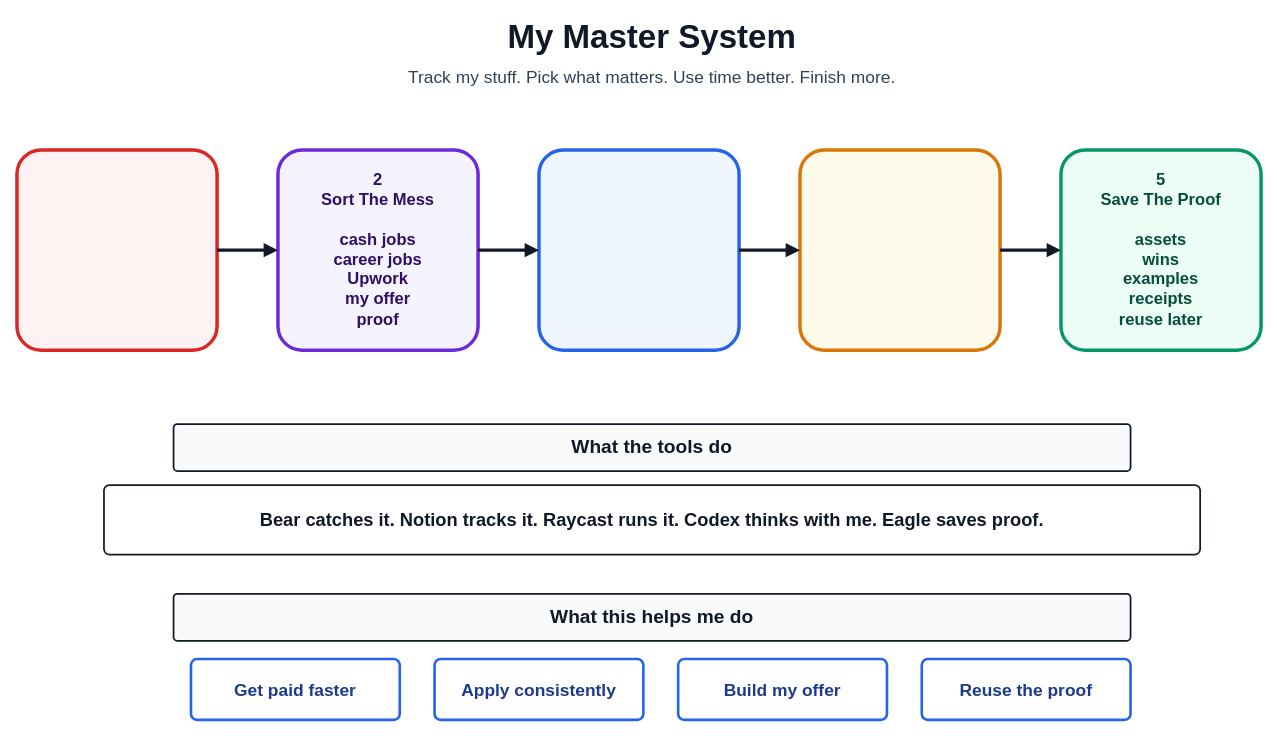
This 1277x736 diagram has some shape labels left out. The shapes that lost their labels are listed below. From the top down, each one's box as (x1, y1, x2, y2) in pixels, then its label:
(15, 148, 218, 351): 1 Catch Everything ideas jobs links screenshots random thoughts
(537, 148, 740, 351): 3 Put Time On It 5 min 30 min 90 min today later
(798, 148, 1001, 351): 4 Do The Work apply send proposal build page capture proof update status
